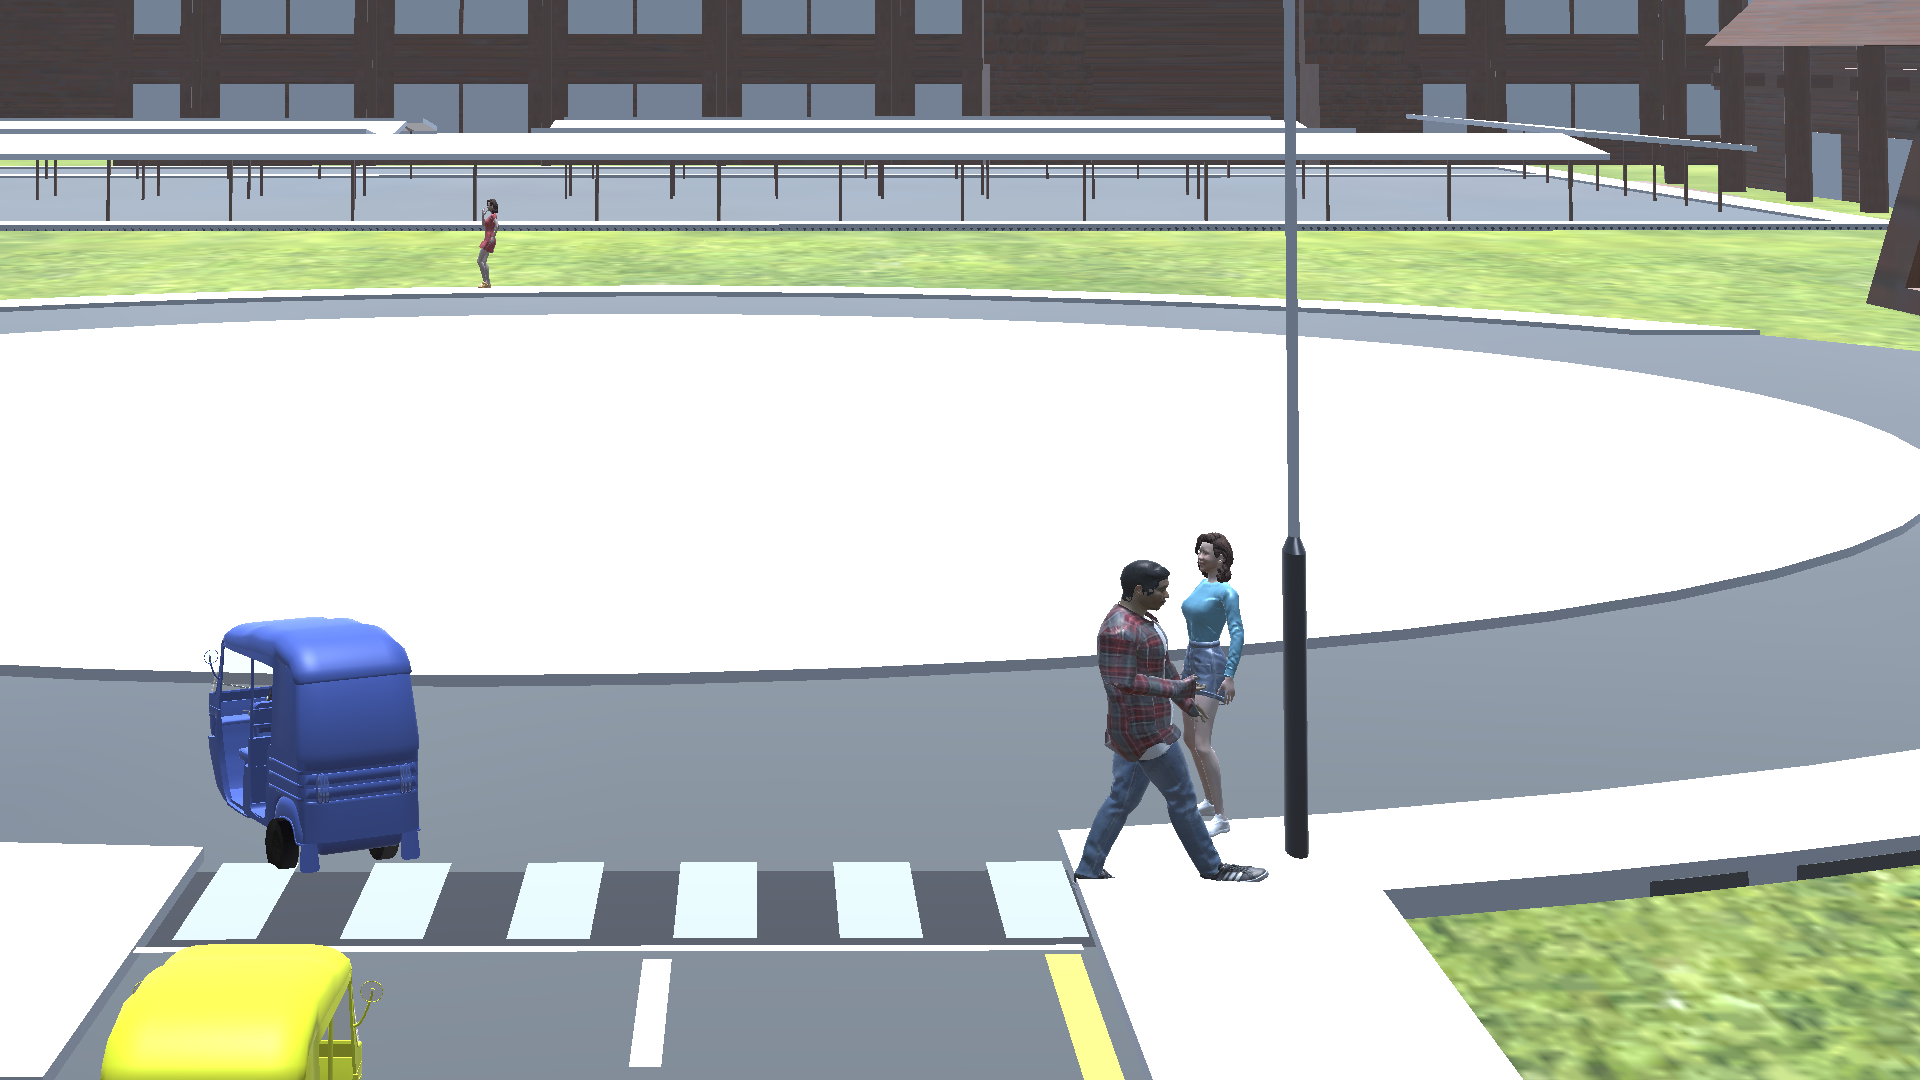pedestrian: (1073, 554, 1267, 903), (1170, 527, 1264, 834), (463, 193, 506, 287)
